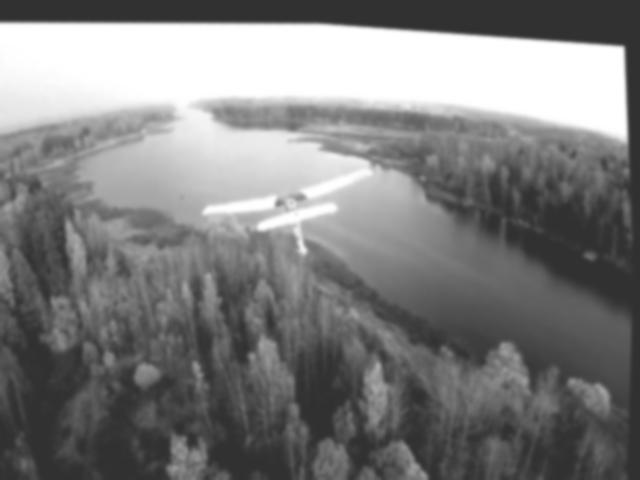hedef: (200, 133, 389, 257)
